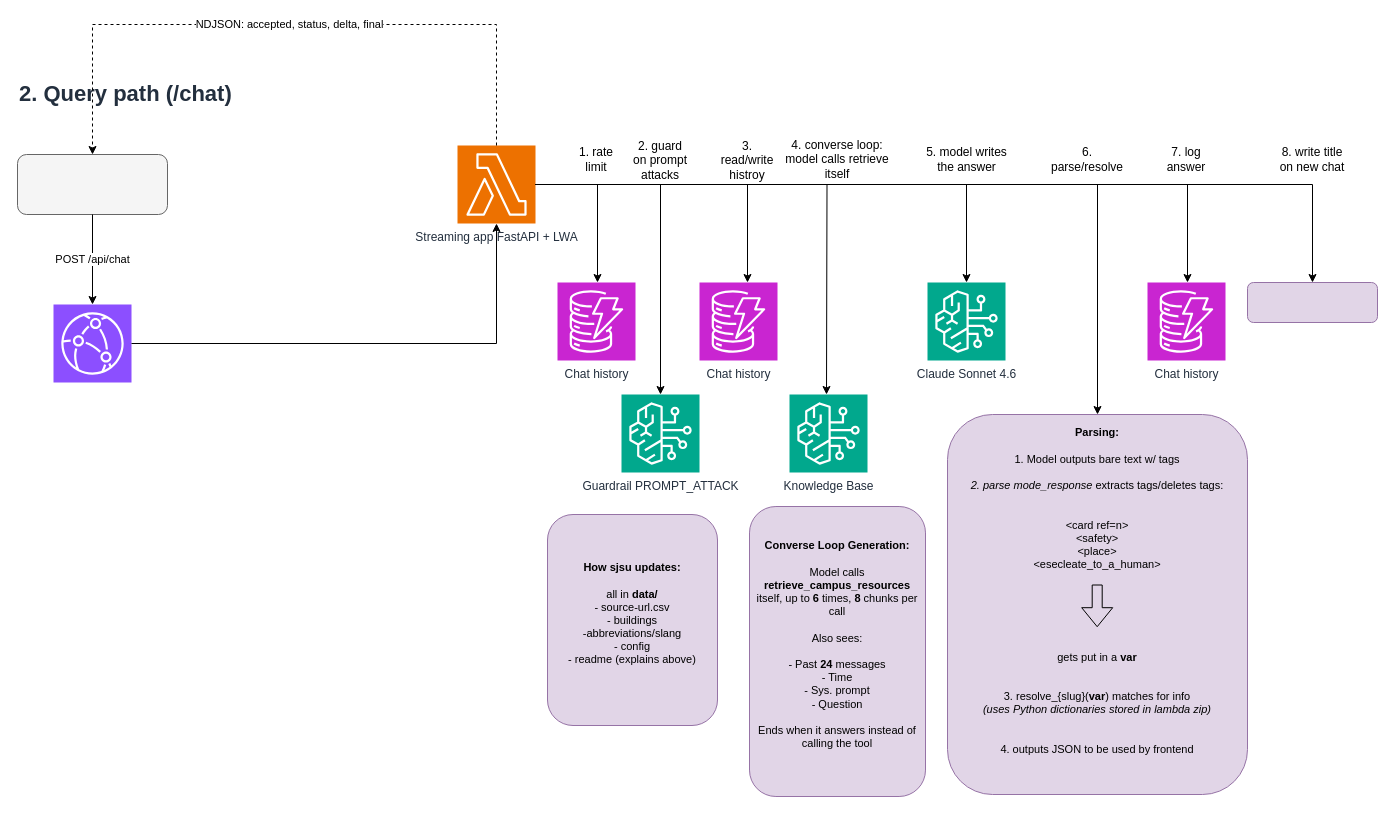
The diagram is 1395 pixels wide and 814 high, and some of its shapes have lost their labels. Here are the shapes that lost their labels. From the top down, the centre of each, then its label:
At point 92,184: "Student browser".
At point 1312,302: "Title (Haiku)".
At point 92,343: "CloudFront /api/*".
